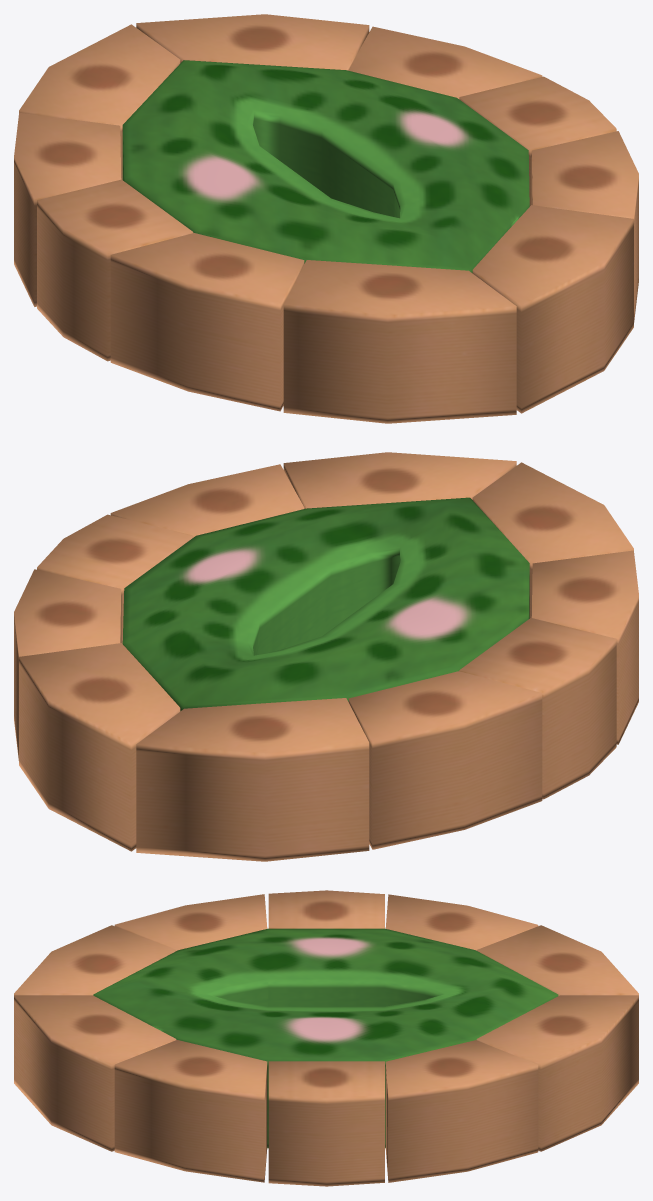
Rendered from Parenkimfull.fbx.
3 renders of one model, top to bottom at view 1: azimuth 30°, elevation 25°; view 2: azimuth 150°, elevation 25°; view 3: azimuth 270°, elevation 25°, orthographic. The views are drawn at different scales.
Parts seen in each view (by area): view 1: ParenkimAftercomb; view 2: ParenkimAftercomb; view 3: ParenkimAftercomb.
Part boxes in pixels (<box>): ParenkimAftercomb: <box>14,14,638,423</box>; ParenkimAftercomb: <box>14,452,638,861</box>; ParenkimAftercomb: <box>14,890,638,1186</box>.
Bounding box in the file's own units: 189 × 46.42 × 240.
1 material, 1 textured.
